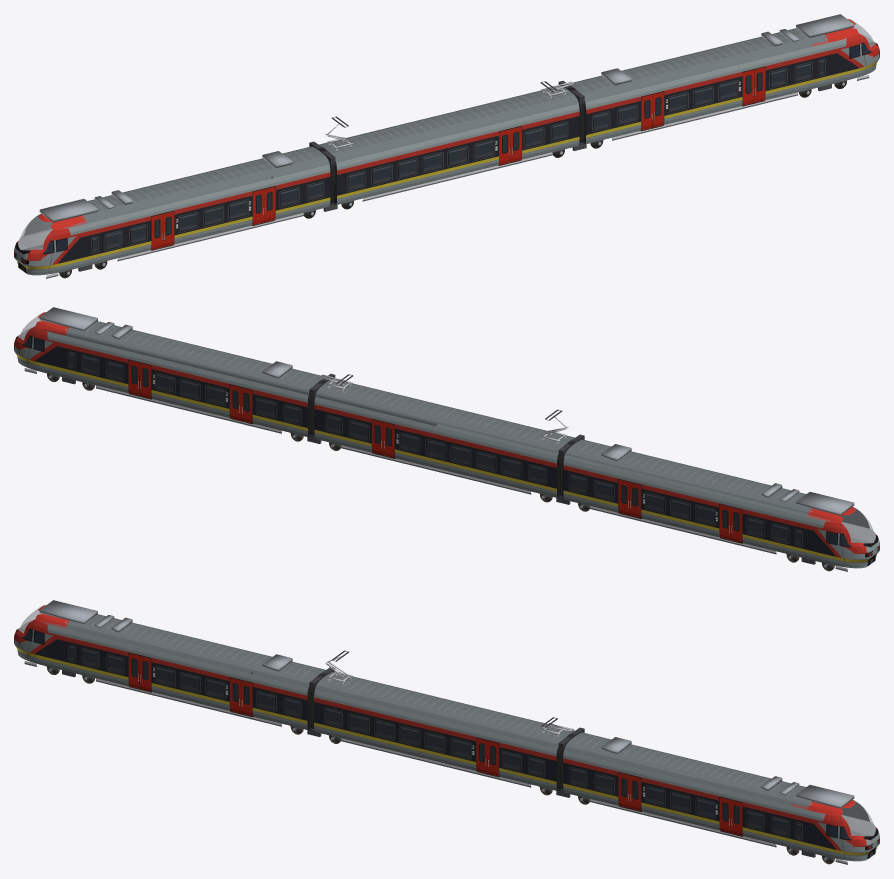
The model's file is FLIRT_KL_przed_szyby.glb.
The picture shows the model from 3 angles, top to bottom: view 1: azimuth 30°, elevation 25°; view 2: azimuth 150°, elevation 25°; view 3: azimuth 330°, elevation 25°; orthographic projection.
Visible parts, largest first — view 1: FK_czlon1, FK_czlon3, FK_czlon2, FK_guma, FK_dach, FK_fbia, FK_fsza, KABINA_WN_0, SZYBA_CZ_0; view 2: FK_czlon1, FK_czlon3, FK_czlon2, FK_guma, FK_dach, FK_fbia, FK_fsza, KABINA_WN_0, SZYBA_CZ_0; view 3: FK_czlon3, FK_czlon1, FK_czlon2, FK_guma, FK_dach, FK_fbia, FK_fsza, KABINA_WN_1, SZYBA_CZ_1.
Boxes of the visible parts, <box> form: FK_czlon1: <box>14,146,330,275</box>; FK_czlon3: <box>568,19,879,143</box>; FK_czlon2: <box>319,86,579,204</box>; FK_guma: <box>91,59,825,253</box>; FK_dach: <box>39,14,854,222</box>; FK_fbia: <box>46,75,869,277</box>; FK_fsza: <box>46,77,869,278</box>; KABINA_WN_0: <box>18,214,53,250</box>; SZYBA_CZ_0: <box>18,215,52,249</box>; FK_czlon1: <box>563,439,879,568</box>; FK_czlon3: <box>14,312,325,436</box>; FK_czlon2: <box>314,379,574,497</box>; FK_guma: <box>68,352,802,546</box>; FK_dach: <box>39,307,854,515</box>; FK_fbia: <box>24,368,847,570</box>; FK_fsza: <box>24,370,847,571</box>; KABINA_WN_0: <box>840,507,875,543</box>; SZYBA_CZ_0: <box>841,508,875,542</box>; FK_czlon3: <box>563,732,879,861</box>; FK_czlon1: <box>14,605,325,729</box>; FK_czlon2: <box>314,672,574,790</box>; FK_guma: <box>68,645,802,839</box>; FK_dach: <box>39,600,854,808</box>; FK_fbia: <box>24,661,847,863</box>; FK_fsza: <box>24,663,847,864</box>; KABINA_WN_1: <box>840,800,875,836</box>; SZYBA_CZ_1: <box>841,801,875,835</box>.
Size of the model in its own units: 60.48 by 5.6 by 2.96.
Materials: 22 (1 with a texture image).
